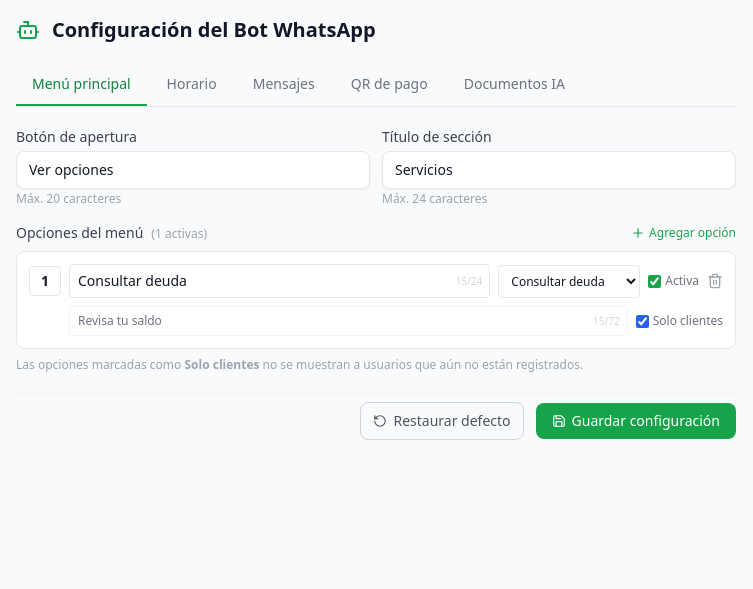
BotConfigPage — TC-FE-BOT-01 a TC-FE-BOT-08 (red de seguridad refactor C3) › TC-FE-BOT-04 — pestaña Horario muestra rango, días y simulación de estado
This screenshot has width=753, height=589.
Expected: the heading "Configuración del Bot WhatsApp" is shown, [52,16,376,44]
Click the button "Horario": (192, 85) [151,64,233,106]
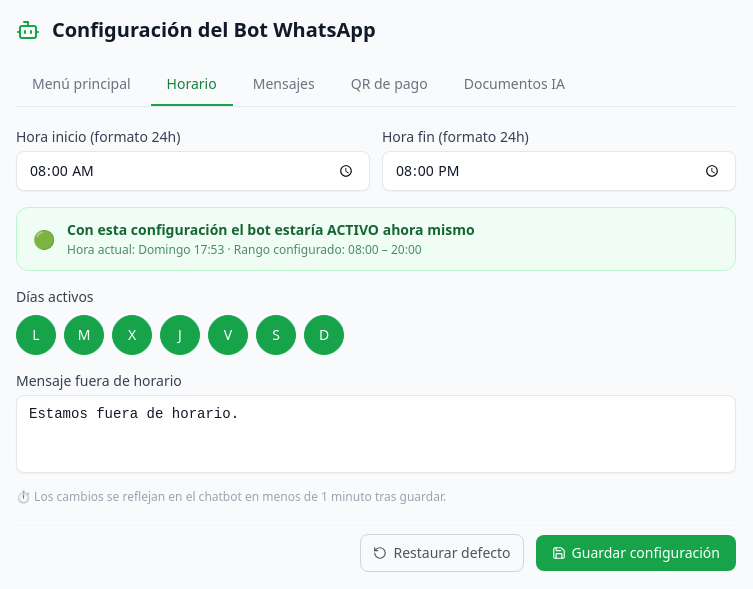
Expected: the text "Hora inicio (formato 24h)" is shown, [16,127,180,146]
Expected: the text "Con esta configuración el bot estaría ACTIVO ahora mismo" is shown, [67,220,475,240]
Expected: the text "Días activos" is shown, [16,287,94,306]
